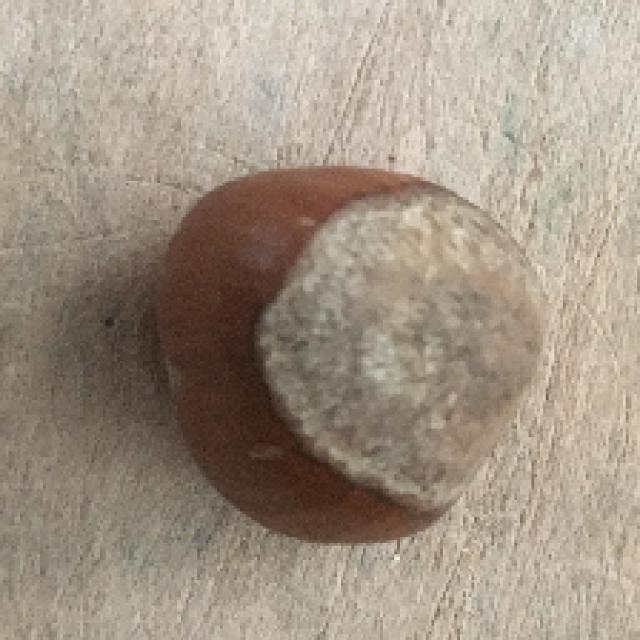qualityHazelnut: (128, 168, 560, 542)
